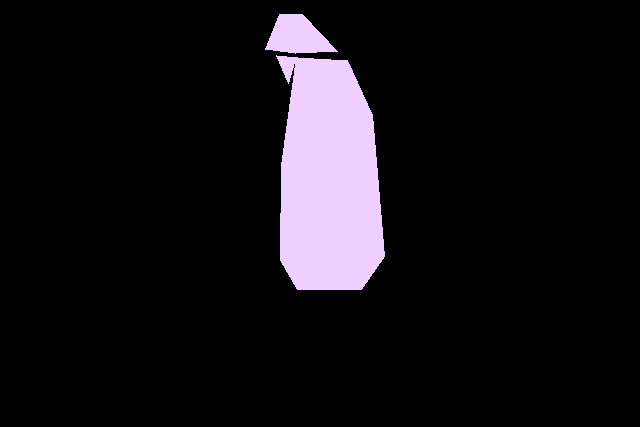Train: (265, 14, 385, 290)
